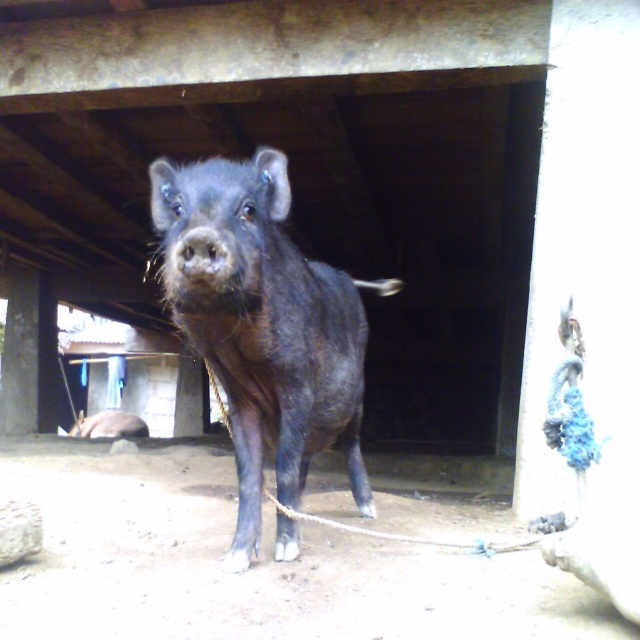Pig: (146, 142, 408, 567)
